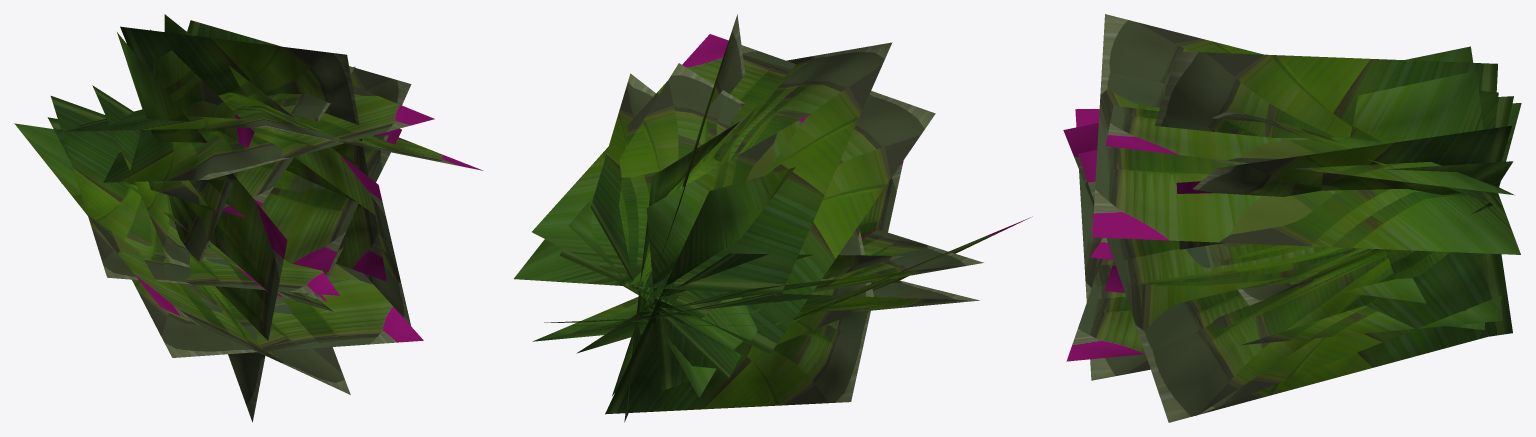
File: grass_1.glb
3 renders of one model, left to right at view 1: azimuth 30°, elevation 25°; view 2: azimuth 150°, elevation 25°; view 3: azimuth 270°, elevation 25°, orthographic. The views are drawn at different scales.
Parts seen in each view (by area): view 1: Pot_2_Low_PolyPlant_0_0; view 2: Pot_2_Low_PolyPlant_0_0; view 3: Pot_2_Low_PolyPlant_0_0.
Boxes of the visible parts, x1=… form: Pot_2_Low_PolyPlant_0_0: x1=14, y1=14, x2=483, y2=422; Pot_2_Low_PolyPlant_0_0: x1=514, y1=14, x2=1032, y2=422; Pot_2_Low_PolyPlant_0_0: x1=1063, y1=14, x2=1521, y2=422.
Size of the model in its own units: 1.1 by 1.07 by 1.14.
Materials: 1 (1 with a texture image).
